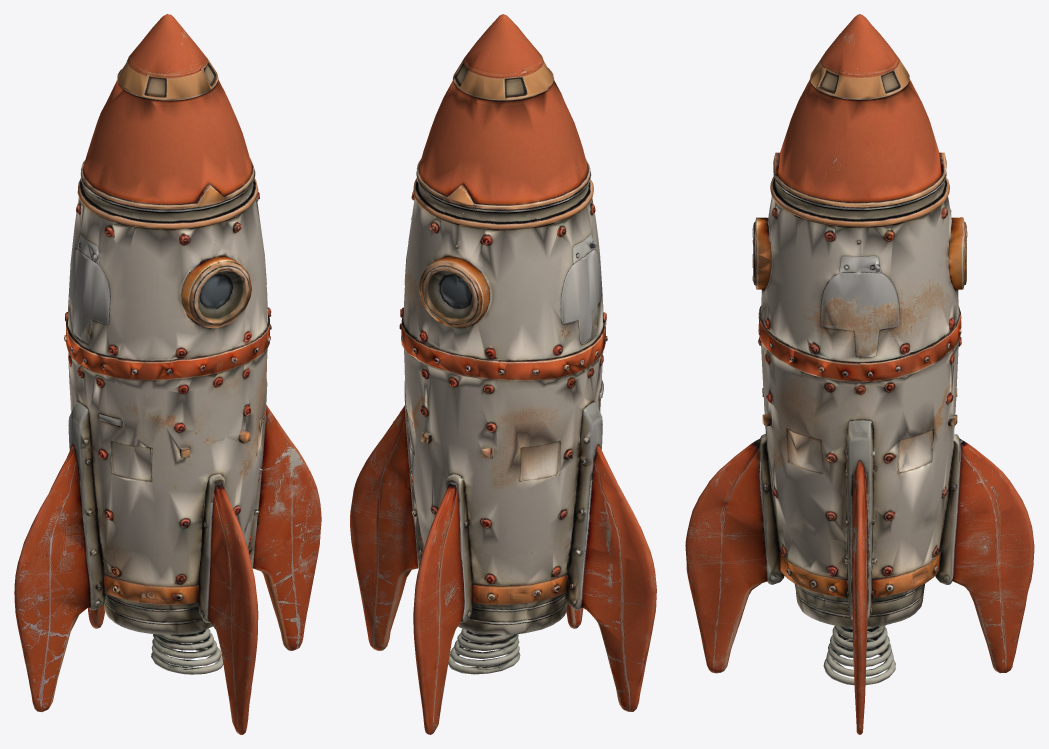
The model's file is weathered-rocket.glb.
3 renders of one model, left to right at view 1: azimuth 30°, elevation 25°; view 2: azimuth 150°, elevation 25°; view 3: azimuth 270°, elevation 25°, orthographic.
Parts seen in each view (by area): view 1: tripo_node_f96c28dd-abb4-40de-9b29-b2e9a3968fce; view 2: tripo_node_f96c28dd-abb4-40de-9b29-b2e9a3968fce; view 3: tripo_node_f96c28dd-abb4-40de-9b29-b2e9a3968fce.
Boxes of the visible parts, x1,y1,x2,y2 form: tripo_node_f96c28dd-abb4-40de-9b29-b2e9a3968fce: [14, 14, 321, 734]; tripo_node_f96c28dd-abb4-40de-9b29-b2e9a3968fce: [350, 14, 656, 734]; tripo_node_f96c28dd-abb4-40de-9b29-b2e9a3968fce: [685, 14, 1034, 734].
Size of the model in its own units: 0.4807 by 0.9999 by 0.4803.
Materials: 1 (1 with a texture image).
